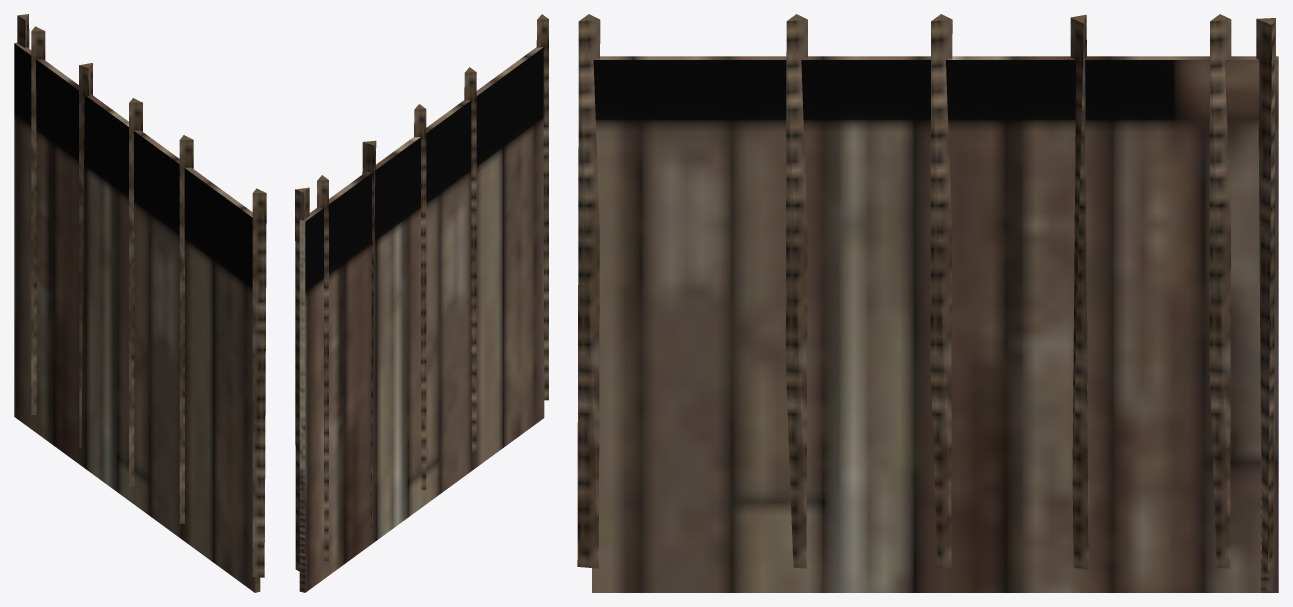
The model's file is fence_wicker_short_0.glb.
The picture shows the model from 3 angles, left to right: view 1: azimuth 30°, elevation 25°; view 2: azimuth 150°, elevation 25°; view 3: azimuth 270°, elevation 25°; orthographic projection. The views are drawn at different scales.
Visible parts, largest first — view 1: fence_wicker_short_0_part0; view 2: fence_wicker_short_0_part0; view 3: fence_wicker_short_0_part0.
Boxes of the visible parts, box(x1,y1,x2,y2) form: fence_wicker_short_0_part0: box(14, 14, 266, 592); fence_wicker_short_0_part0: box(295, 14, 548, 592); fence_wicker_short_0_part0: box(577, 14, 1278, 592).
Size of the model in its own units: 0.1783 by 4.08 by 4.52.
Materials: 1 (1 with a texture image).
